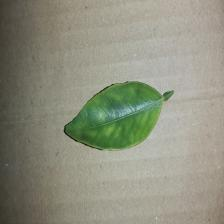greening: (61, 78, 176, 153)
